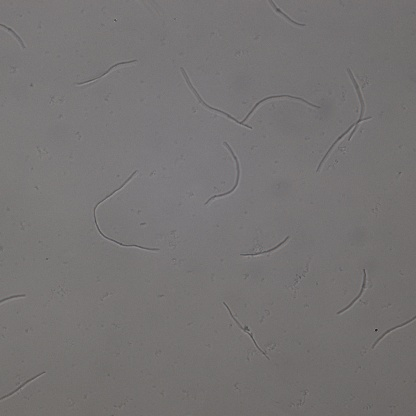Sensitive: (93, 170, 160, 255), (181, 66, 251, 129), (318, 115, 370, 170), (241, 89, 322, 124), (224, 303, 271, 360), (207, 142, 241, 206), (76, 59, 138, 88), (372, 316, 416, 349), (346, 67, 365, 141), (1, 371, 46, 401), (339, 268, 369, 312), (239, 235, 289, 261), (266, 1, 305, 27)
